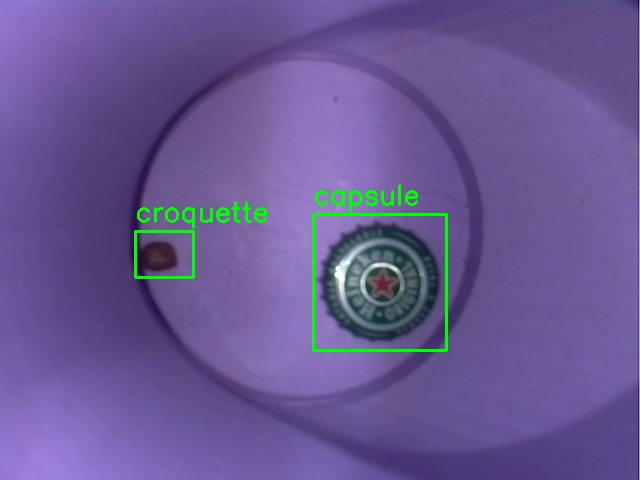capsule: (313, 214, 446, 350)
croquette: (135, 231, 193, 277)
